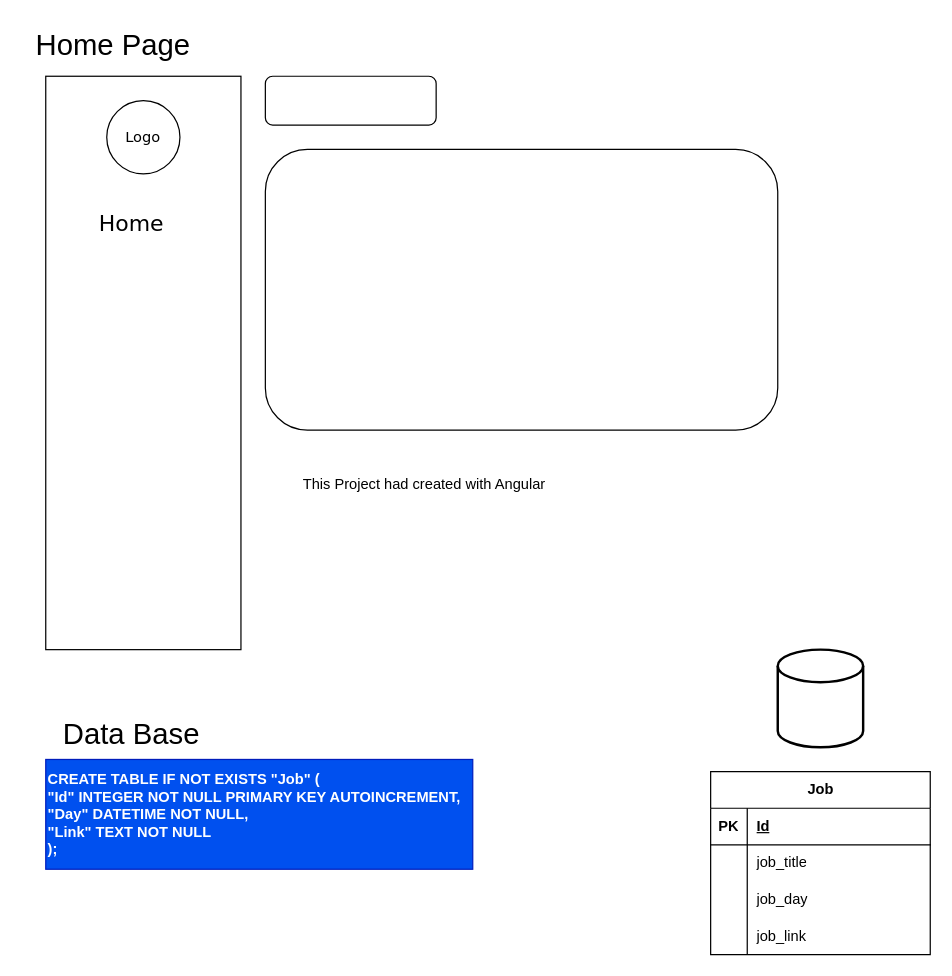
Some shapes in this 952 by 976 pixel diagram are drawn without their labels. The centre of each missing label's shape, as x and y in pixels:
Find Jobs: point (350, 100)
JOBS GRID: point (521, 289)
